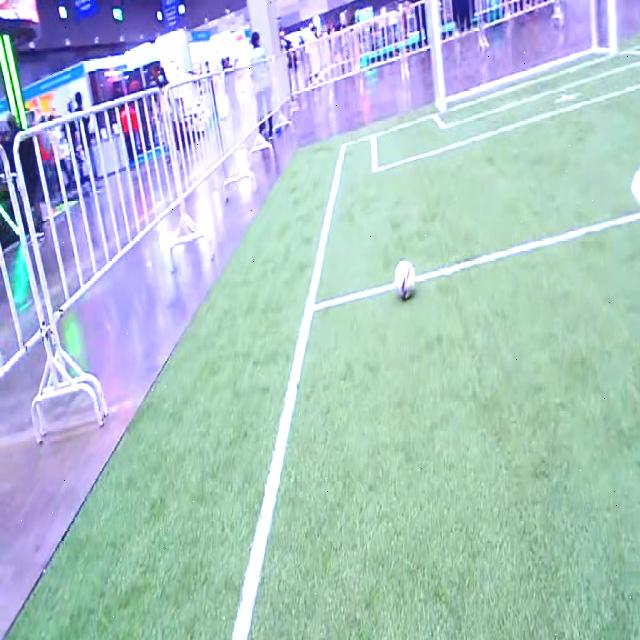ball: (394, 258, 416, 300)
